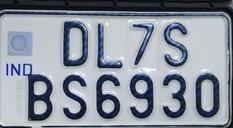0: (194, 71, 219, 117)
3: (161, 71, 188, 118)
6: (94, 72, 123, 119)
7: (127, 17, 156, 64)
9: (128, 70, 156, 119)
B: (26, 72, 54, 121)
D: (61, 19, 90, 68)
L: (94, 20, 122, 69)
S: (60, 71, 89, 120), (161, 20, 188, 66)
